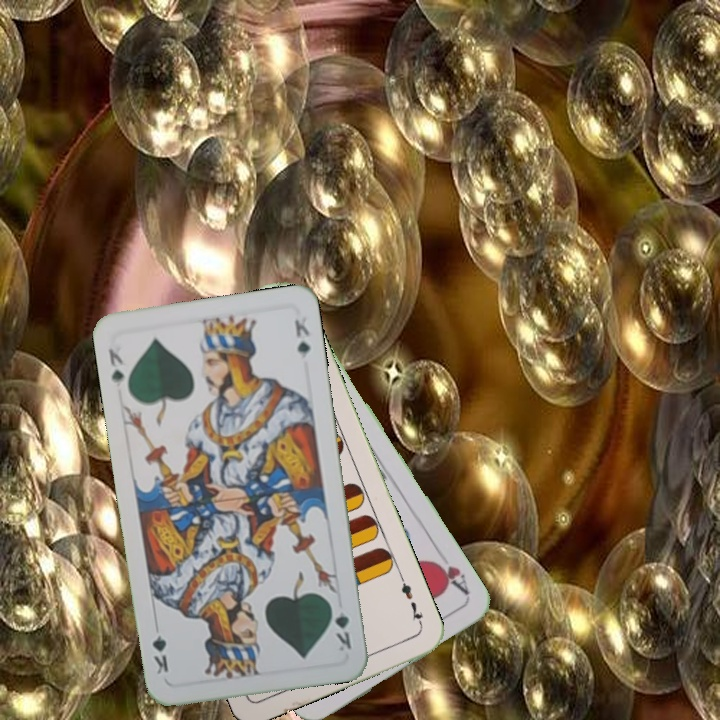E7: (396, 573, 426, 630)
GK: (326, 598, 354, 654), (104, 344, 129, 390)
HA: (427, 556, 472, 599)
